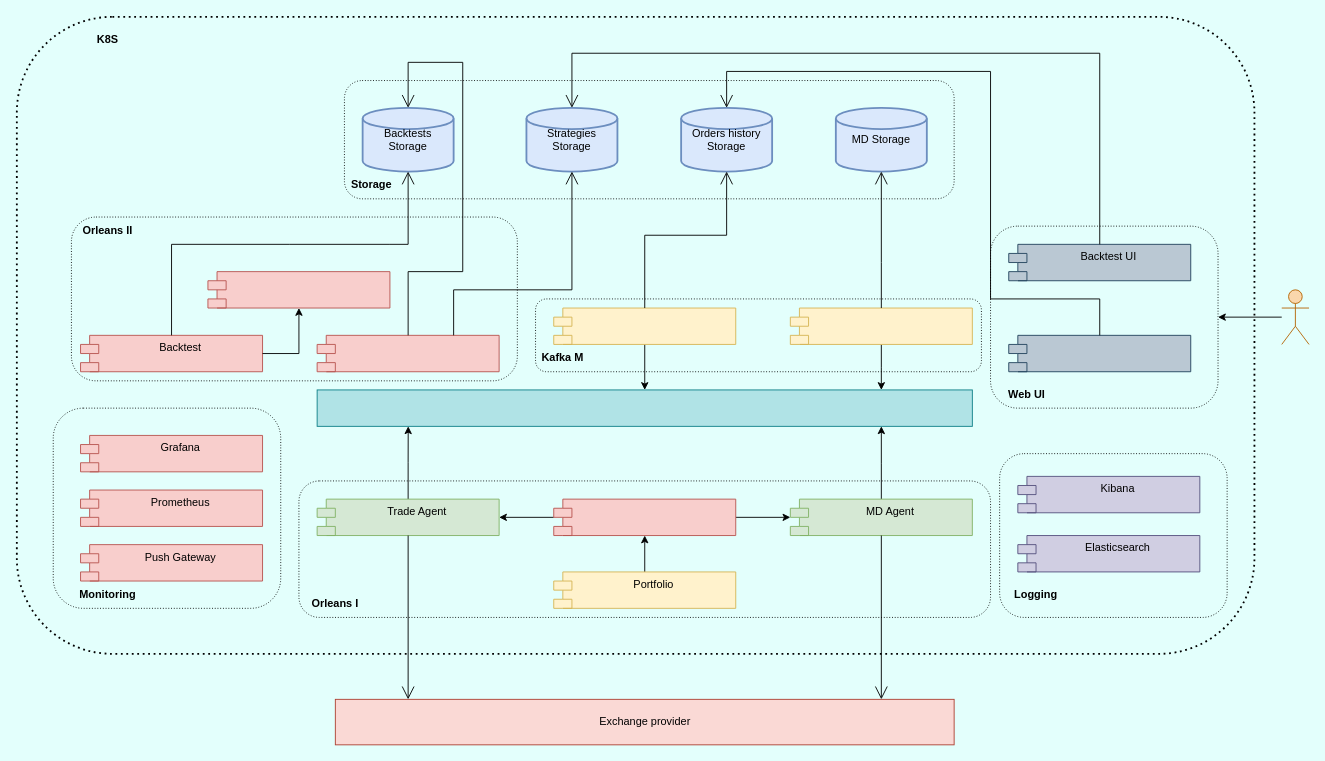
Image size: 1325x761. Some labels were removed from this diagram. The shapes that lost their labels are listed below. From the top down, each one's centre as x and y in pixels, then its label:
point 298,289: ML Optimizator
point 644,325: Orders consumer
point 880,325: MD Consumer
point 1295,316: Alex
point 407,353: Strategy resolver
point 1099,353: Portfolio UI
point 644,407: Kafka
point 644,517: Strategy
